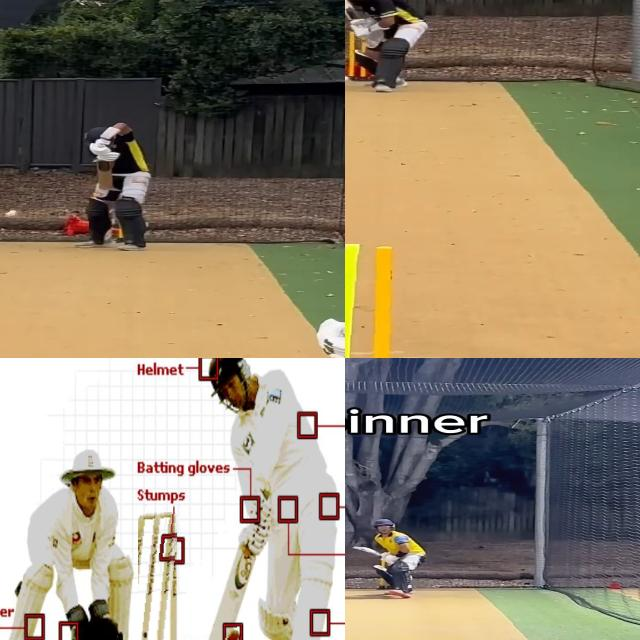Cricket ball: (224, 624, 242, 640), (6, 208, 22, 218), (345, 76, 350, 85)
Stumps: (345, 244, 408, 358), (138, 511, 180, 640)
